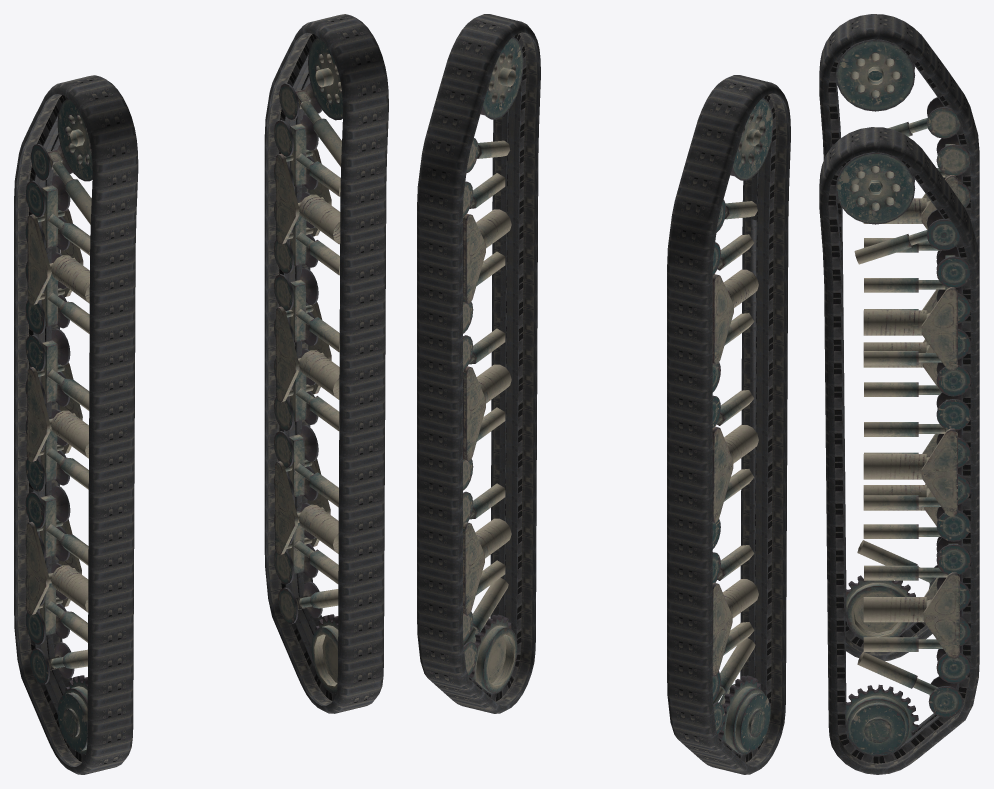
File: Chassis.glb
3 renders of one model, left to right at view 1: azimuth 30°, elevation 25°; view 2: azimuth 150°, elevation 25°; view 3: azimuth 270°, elevation 25°, orthographic. The views are drawn at different scales.
Visible parts, largest first — view 1: set_1_group_0, set_0_group_0, set_3_group_0, set_5_group_0, set_4_group_0, set_2_group_0; view 2: set_1_group_0, set_0_group_0, set_5_group_0, set_3_group_0, set_4_group_0, set_2_group_0; view 3: set_5_group_0, set_0_group_0, set_3_group_0, set_4_group_0, set_1_group_0, set_2_group_0.
Part boxes in pixels (bbox=[...]): set_1_group_0: bbox=[14, 75, 138, 774]; set_0_group_0: bbox=[264, 14, 388, 713]; set_3_group_0: bbox=[25, 98, 92, 754]; set_5_group_0: bbox=[274, 37, 342, 693]; set_4_group_0: bbox=[276, 123, 340, 430]; set_2_group_0: bbox=[26, 185, 90, 489]; set_1_group_0: bbox=[667, 75, 790, 774]; set_0_group_0: bbox=[417, 14, 540, 713]; set_5_group_0: bbox=[463, 37, 523, 693]; set_3_group_0: bbox=[712, 98, 773, 754]; set_4_group_0: bbox=[463, 173, 511, 461]; set_2_group_0: bbox=[712, 234, 758, 522]; set_5_group_0: bbox=[835, 152, 970, 755]; set_0_group_0: bbox=[819, 127, 979, 774]; set_3_group_0: bbox=[835, 39, 970, 639]; set_4_group_0: bbox=[863, 255, 957, 516]; set_1_group_0: bbox=[819, 14, 979, 660]; set_2_group_0: bbox=[863, 144, 957, 396].
Size of the model in its own units: 2.16 by 4.8 by 1.1.
Materials: 6 (6 with a texture image).
